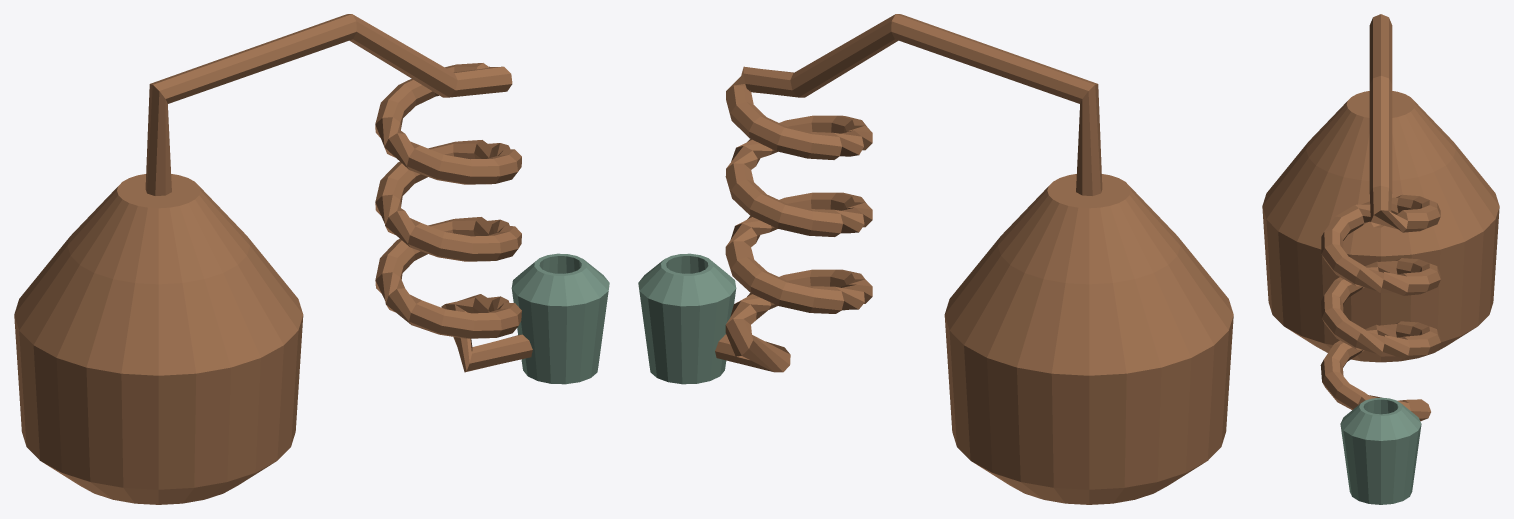
The model's file is distiller.glb.
3 views of the same model, side by side, from view 1: azimuth 30°, elevation 25°; view 2: azimuth 150°, elevation 25°; view 3: azimuth 270°, elevation 25° (orthographic). The views are drawn at different scales.
Visible parts, largest first — view 1: Alembic • hammered copper and cooling spiral.001; view 2: Alembic • hammered copper and cooling spiral.001; view 3: Alembic • hammered copper and cooling spiral.001.
Part boxes in pixels (<box>): Alembic • hammered copper and cooling spiral.001: <box>14,14,609,504</box>; Alembic • hammered copper and cooling spiral.001: <box>638,14,1233,504</box>; Alembic • hammered copper and cooling spiral.001: <box>1262,14,1499,504</box>.
Bounding box in the file's own units: 0.865 × 0.5876 × 0.38.
